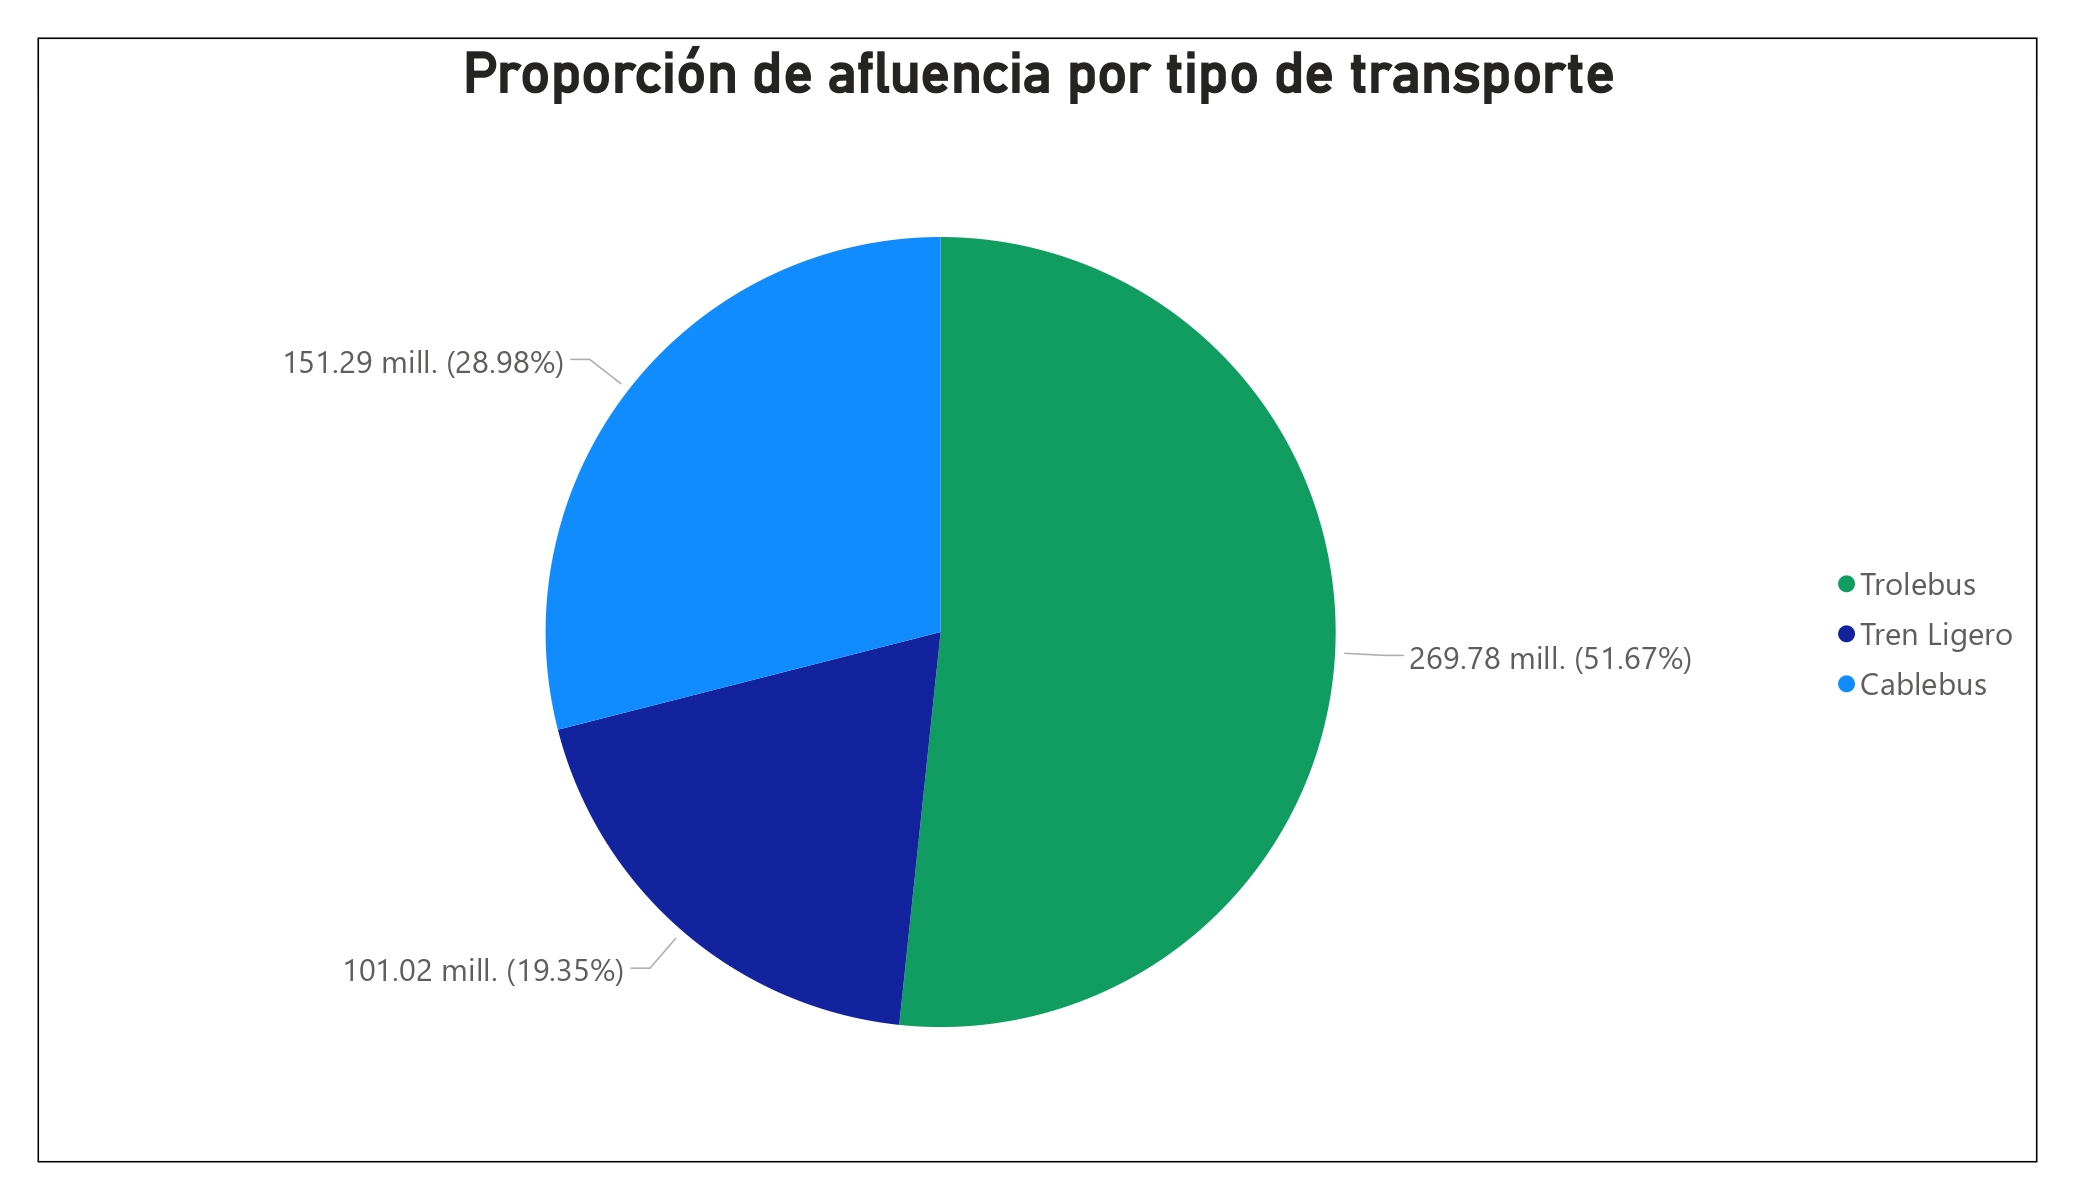

What the dashboard file says about the page in this screenshot:
{"tool":"powerbi","page":{"name":"Página 2","canvas":[1280,720],"ordinal":1},"visuals":[{"type":"pieChart","title":"Proporción de afluencia por tipo de transporte","fields":{"Y":["Sum(public vw_afluencia_transportes.afluencia_trolebus)","Sum(public vw_afluencia_transportes.afluencia_tren_ligero)","Sum(public vw_afluencia_transportes.afluencia_cablebus)"]},"box":[0,0,1280,720],"z":0}]}

Visuals, with their boxes on the page's 1280x720 design canvas (x1, y1, x2, y2). These are canvas units, not pixel positions in the 2075x1200 screenshot, which may show the page scaled, cropped or inside an application window:
"Proporción de afluencia por tipo de transporte" pieChart: bbox=[0, 0, 1280, 720]
